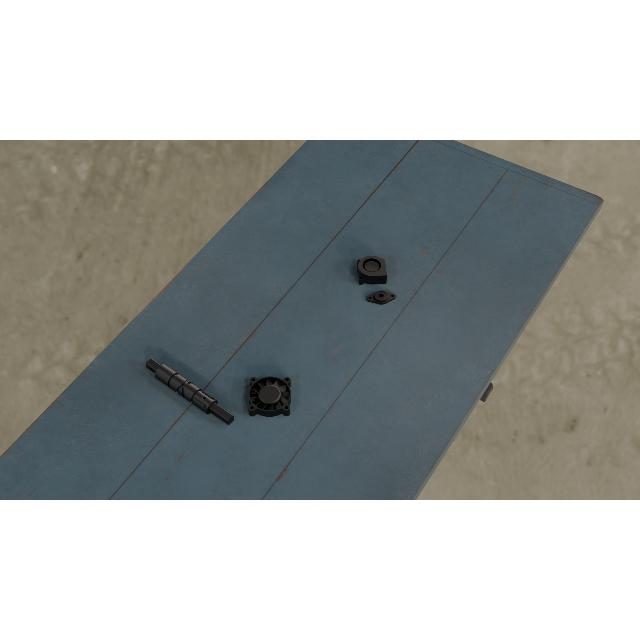Pieza1: (142, 353, 238, 431)
Pieza2: (365, 288, 397, 306)
Pieza3: (357, 254, 388, 286)
Pieza4: (248, 377, 292, 418)
